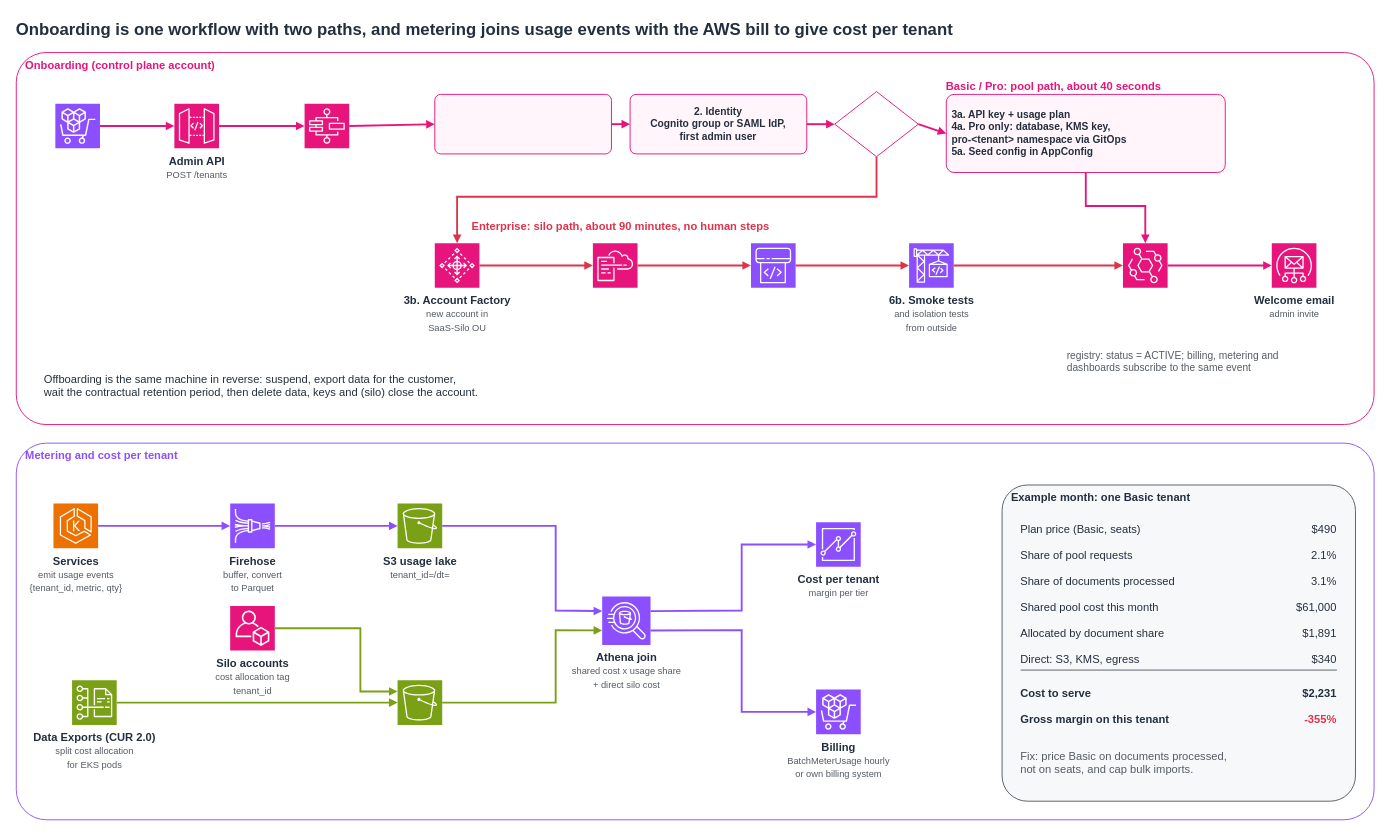
Image size: 1390x836. Some labels were removed from this diagram. Each missing label, with the centre of its shape:
1. Tenant record registry: status = PROVISIONING: point 522,123
4b. Baseline StackSets: roles, logging, guardrails: point 615,265
5b. Deploy app stack same version as pool, tenant region + key: point 773,265
Onboarding state machine: point 326,125
S3 cost data hourly or daily: point 419,702
Sign-up Marketplace, self-serve or sales (CRM): point 77,125
TenantOnboarded event: point 1145,265
Tier?: point 876,124
